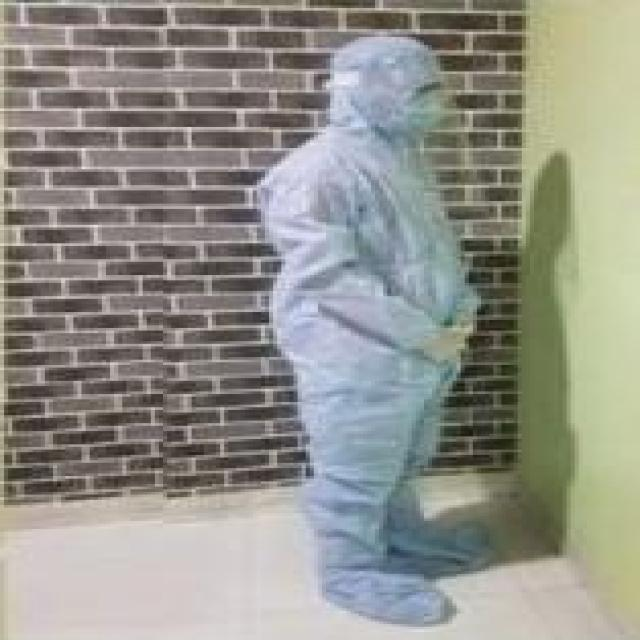Coverall: (216, 0, 514, 640)
Gloves: (396, 307, 506, 368)
Mask: (375, 93, 465, 138)
